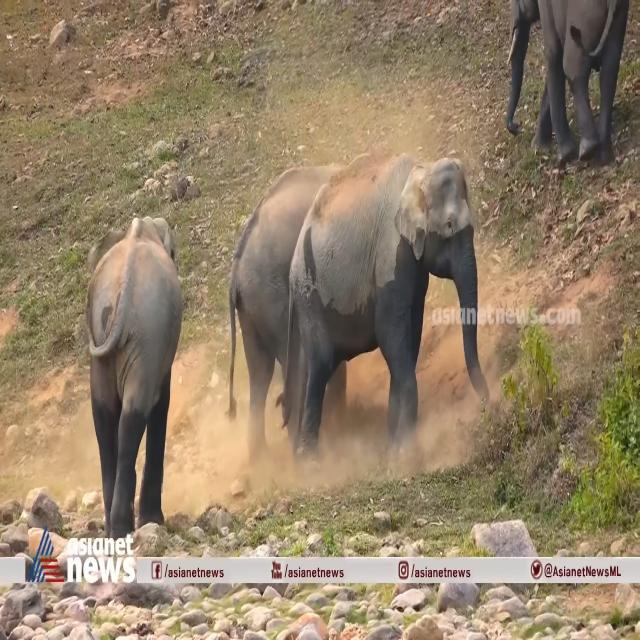ELEPHANT: (284, 148, 491, 424), (80, 205, 186, 529)
